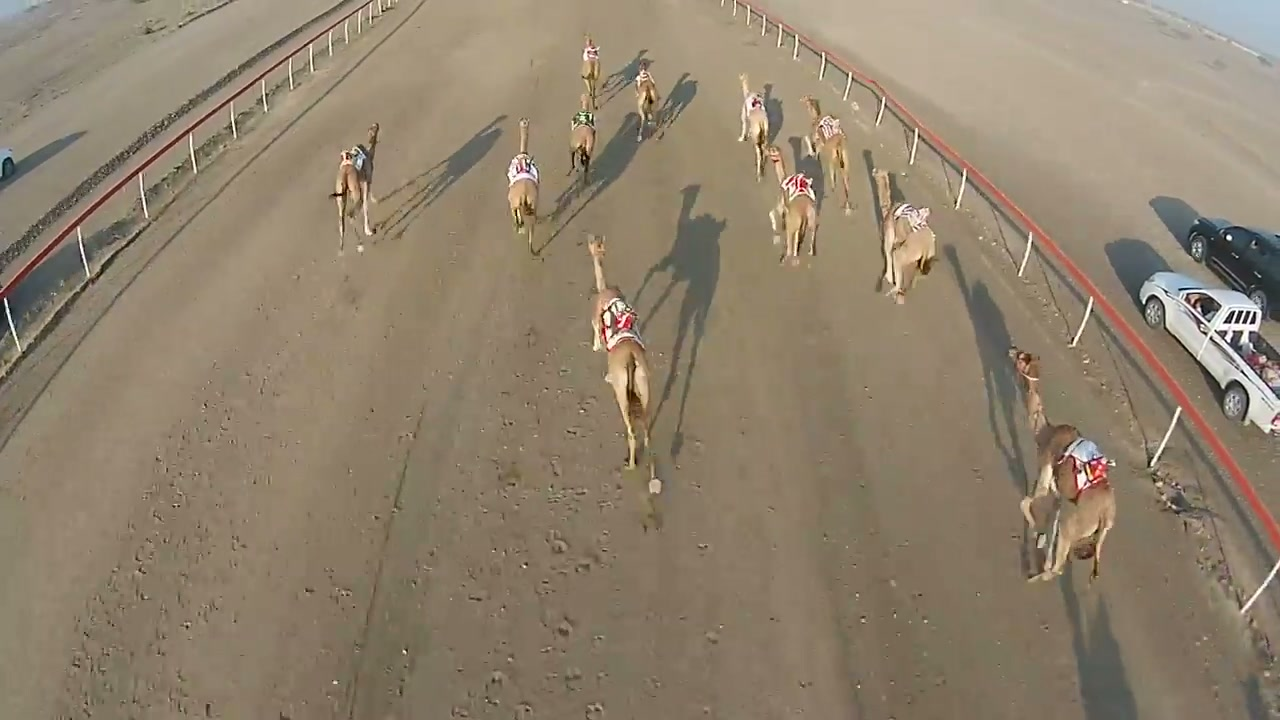animal_footprint: (48, 372, 297, 719), (482, 340, 664, 719)
